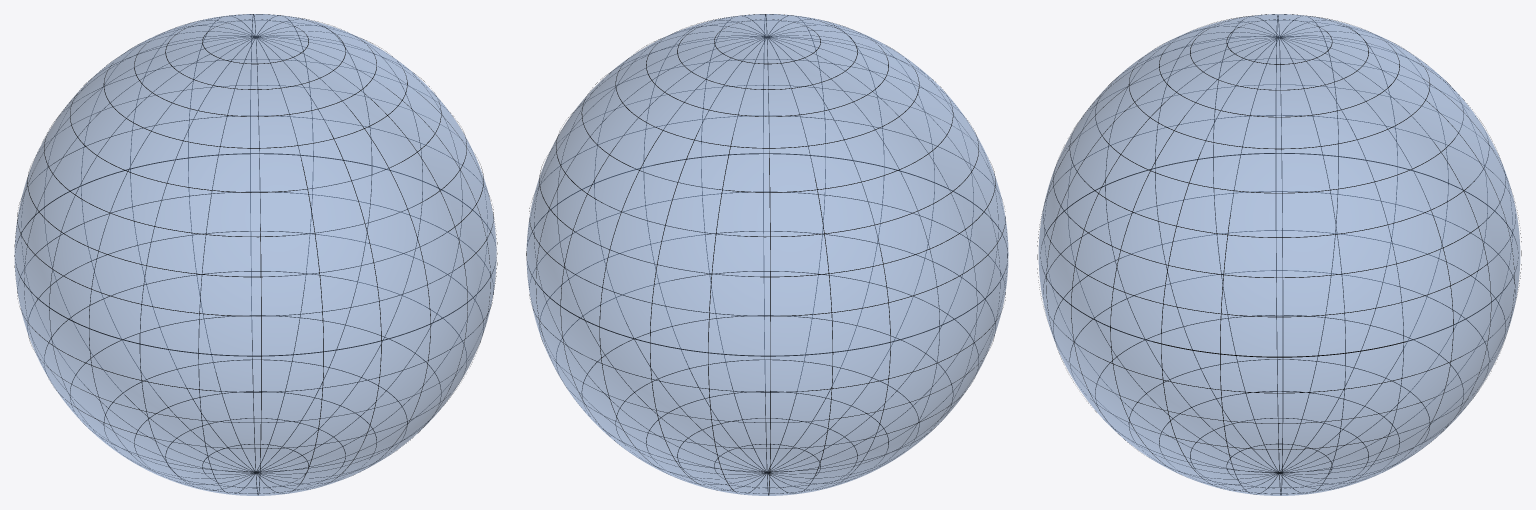
The model's file is qiu NEW.FBX.
The picture shows the model from 3 angles, left to right: view 1: azimuth 30°, elevation 25°; view 2: azimuth 150°, elevation 25°; view 3: azimuth 270°, elevation 25°; orthographic projection.
Visible parts, largest first — view 1: Globe Sea, Longitudes Outside, Meridians Outside; view 2: Globe Sea, Longitudes Outside, Meridians Outside; view 3: Globe Sea, Meridians Outside, Longitudes Outside.
Boxes of the visible parts, x1,y1,x2,y2 form: Globe Sea: (14, 14, 496, 495); Longitudes Outside: (15, 14, 496, 493); Meridians Outside: (14, 14, 497, 494); Globe Sea: (526, 14, 1008, 495); Longitudes Outside: (526, 14, 1007, 493); Meridians Outside: (526, 14, 1007, 495); Globe Sea: (1038, 14, 1520, 495); Meridians Outside: (1037, 15, 1521, 494); Longitudes Outside: (1040, 14, 1518, 494).
Bounding box in the file's own units: 573 × 572 × 575.
